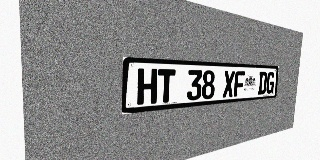3: (187, 70, 202, 101)
8: (201, 70, 216, 99)
D: (258, 72, 267, 95)
F: (233, 71, 245, 97)
G: (266, 72, 275, 94)
H: (137, 68, 157, 105)
T: (157, 69, 176, 103)
X: (222, 71, 235, 98)
